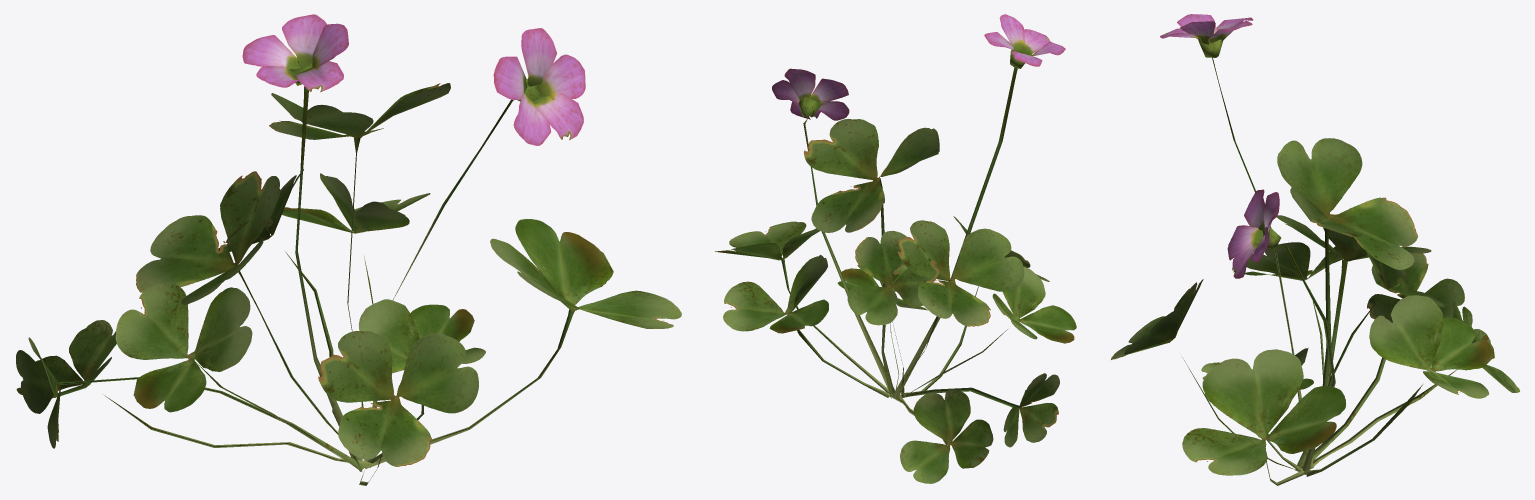
The model's file is ph-sorrel-d-low.glb.
3 views of the same model, side by side, from view 1: azimuth 30°, elevation 25°; view 2: azimuth 150°, elevation 25°; view 3: azimuth 270°, elevation 25° (orthographic). The views are drawn at different scales.
Visible parts, largest first — view 1: ph-sorrel-d-low; view 2: ph-sorrel-d-low; view 3: ph-sorrel-d-low.
Boxes of the visible parts, left/top/right/bottom form: ph-sorrel-d-low: left=16, top=14, right=681, bottom=485; ph-sorrel-d-low: left=715, top=14, right=1076, bottom=483; ph-sorrel-d-low: left=1111, top=14, right=1519, bottom=485.
Bounding box in the file's own units: 0.0609 × 0.0544 × 0.0487.
1 material, 1 textured.
